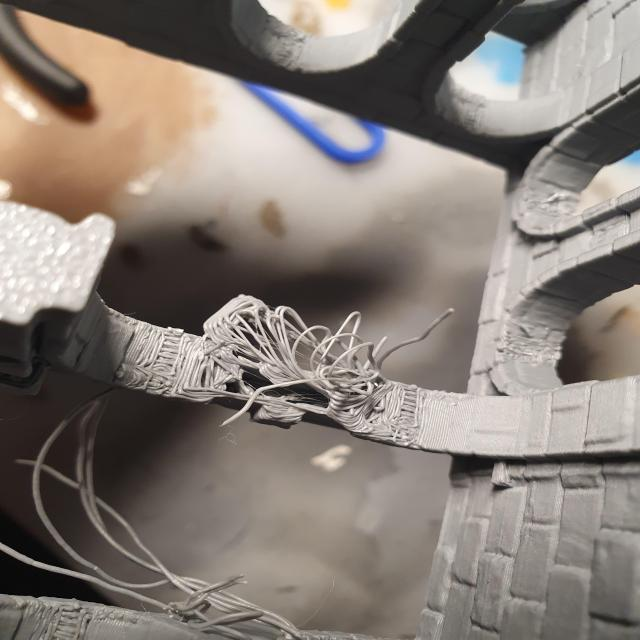Spaghetti: (181, 295, 455, 428)
